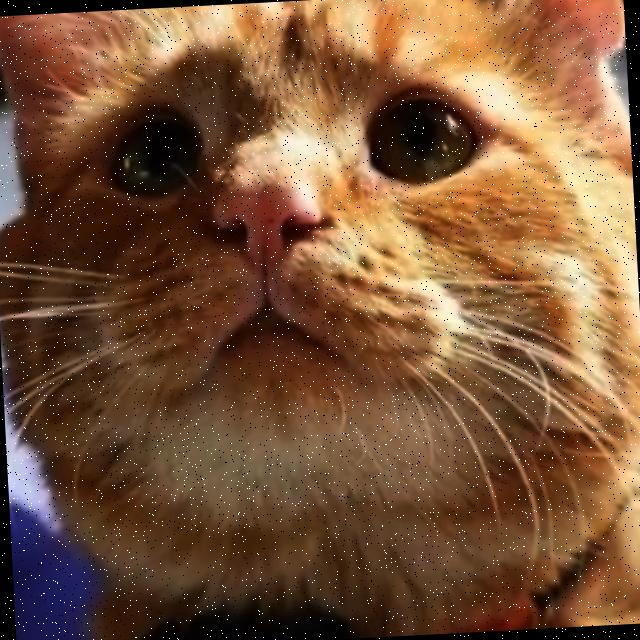Sad: (39, 20, 554, 481)
